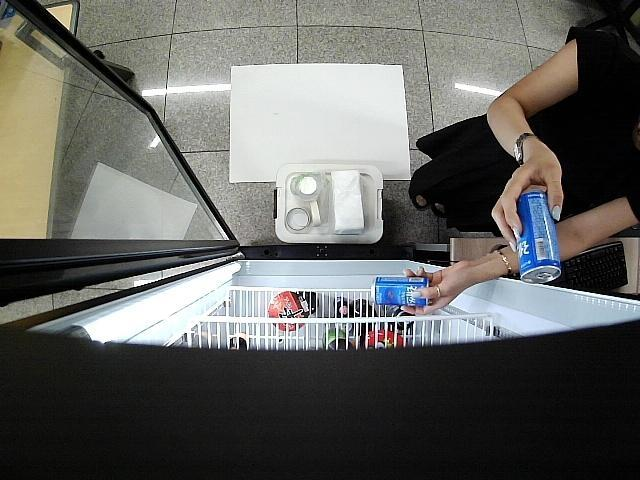15_letsbe: (512, 188, 562, 283), (371, 275, 431, 309)
